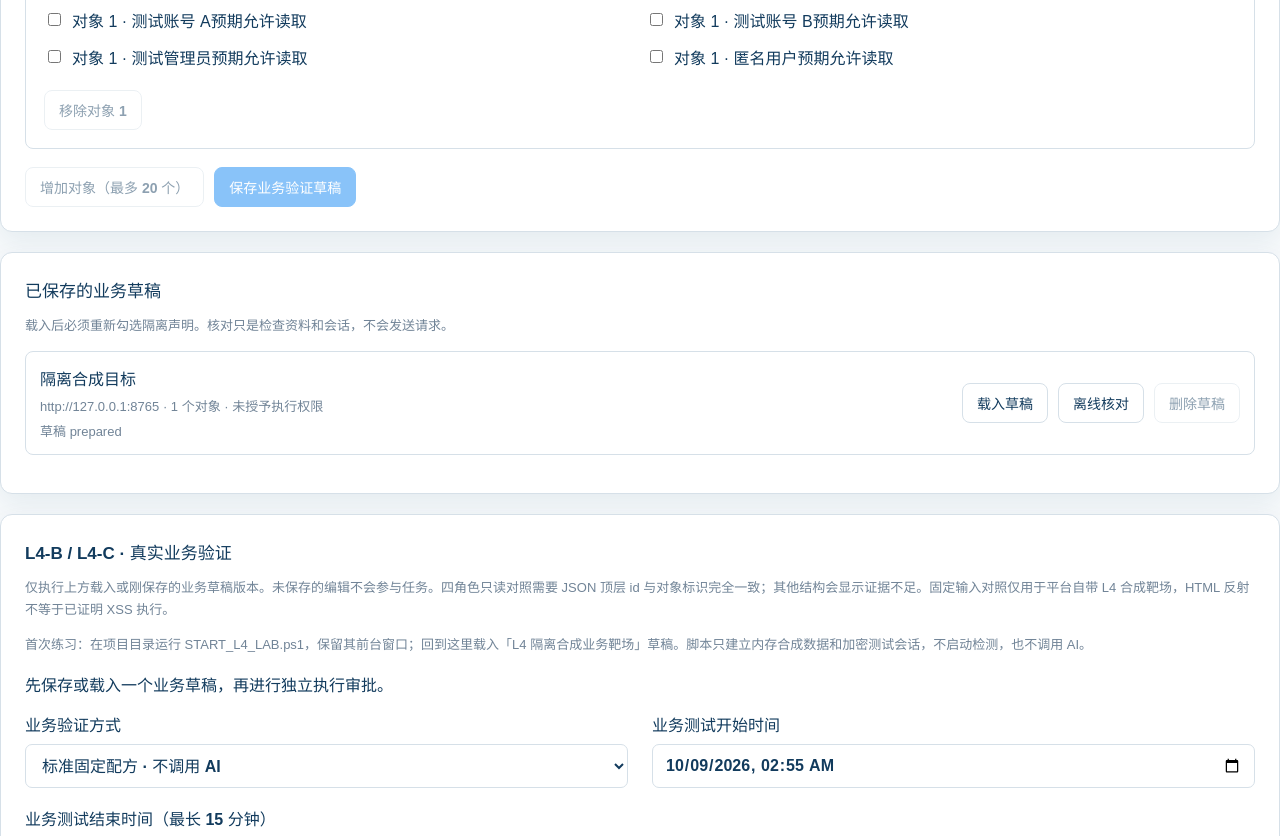
Scenario: loading drafts does not restore declarations and preview does not claim a scan
(page scrolled)
Expected: the element with class "business-draft-row" shows "http://127.0.0.1:8765", [40,399,159,414]
Expected: the element with class "business-draft-row" shows "prepared", [70,424,122,439]
Click the button "载入草稿".
click(1005, 403)  # box [962,383,1048,423]
(page scrolled)
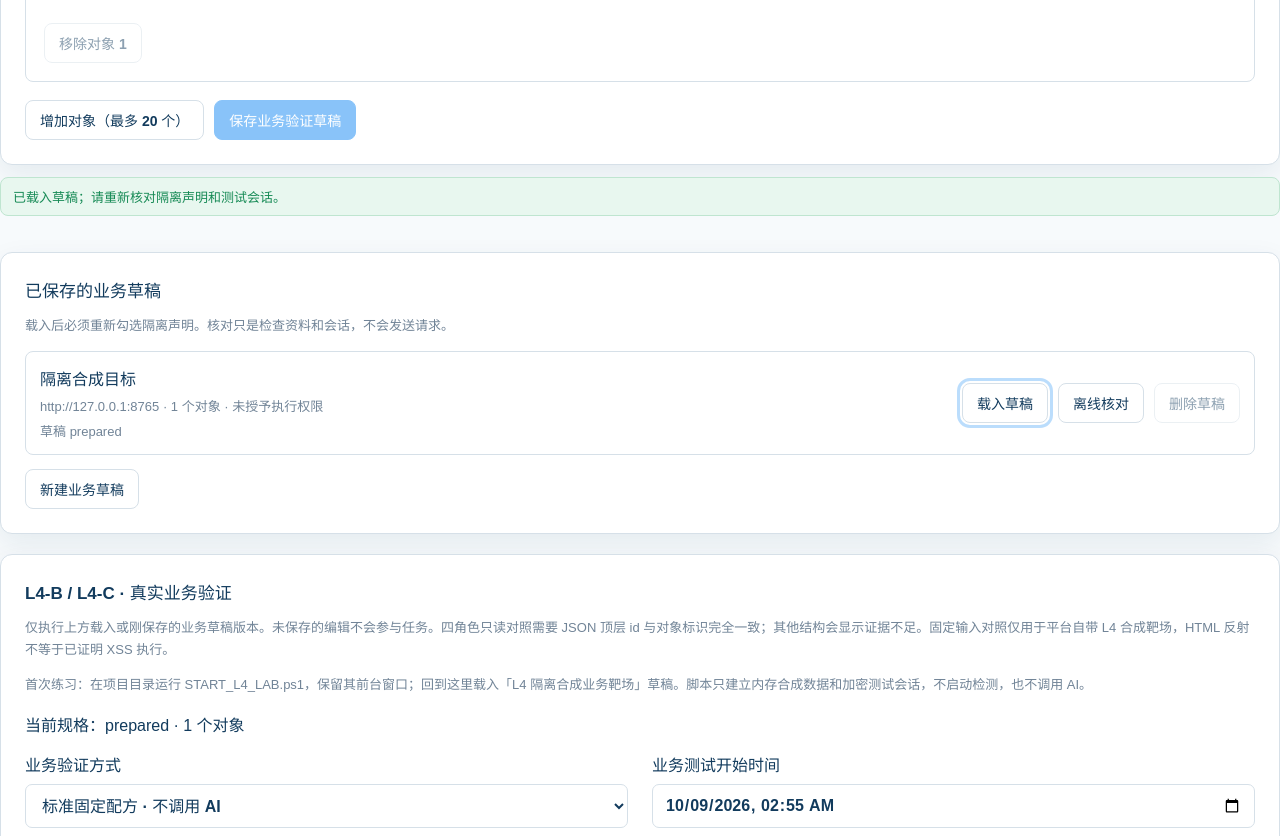
Expected: the button "保存业务验证草稿" is disabled, [214,100,356,140]
Click the button "离线核对".
click(1101, 403)  # box [1058,383,1144,423]
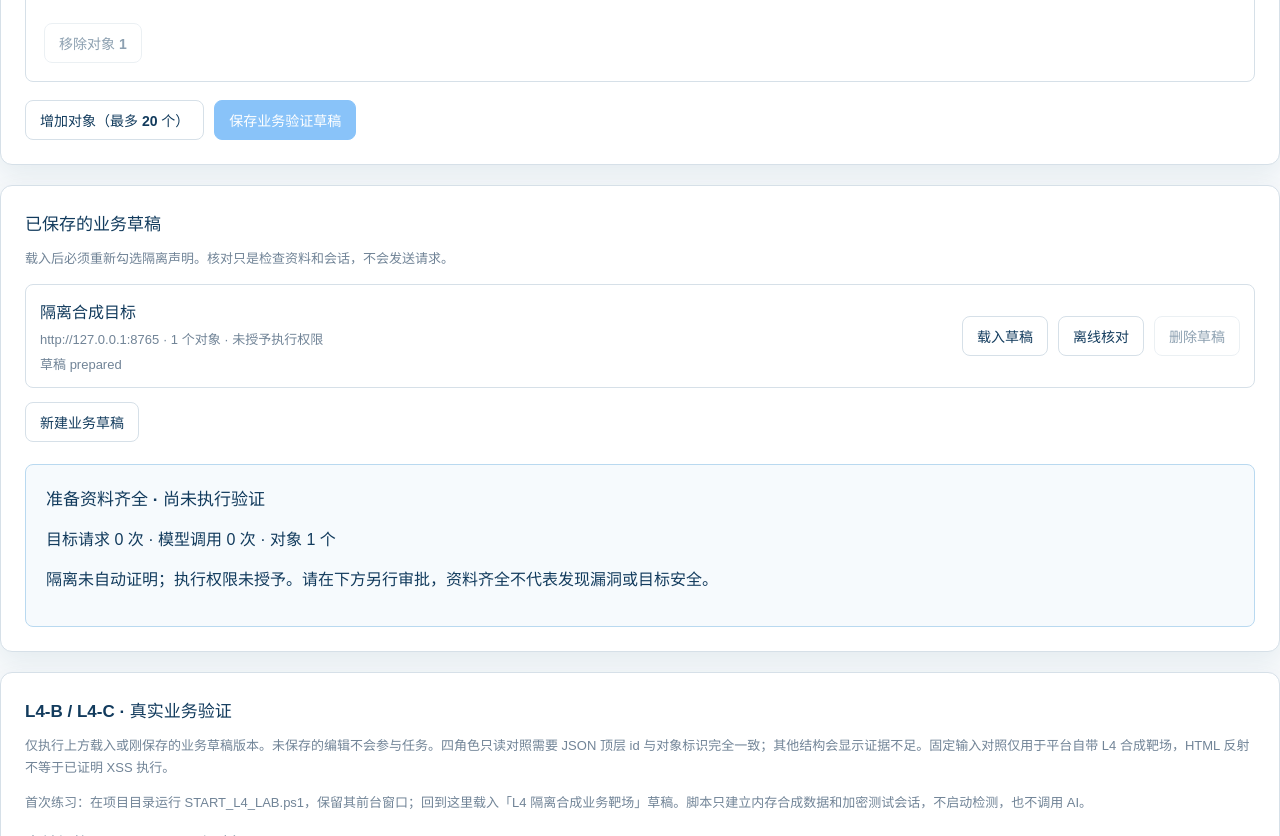
Now the heading "准备资料齐全 · 尚未执行验证" is shown, box [46,490,265,509]
